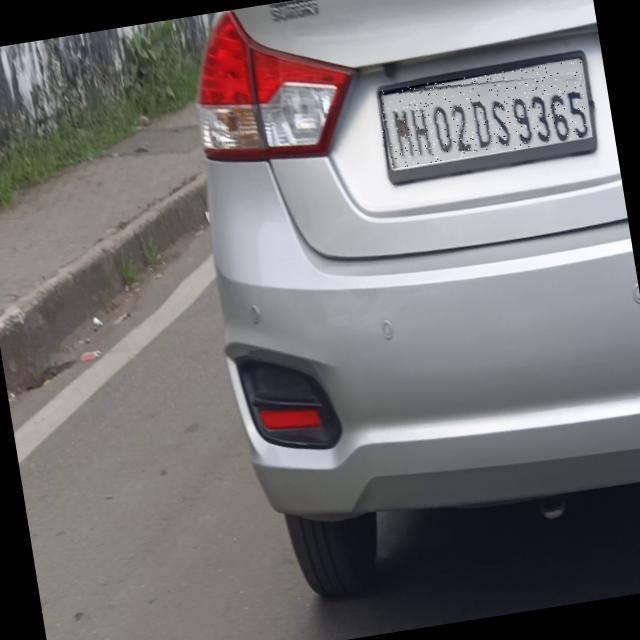Plate: (377, 61, 594, 171)
